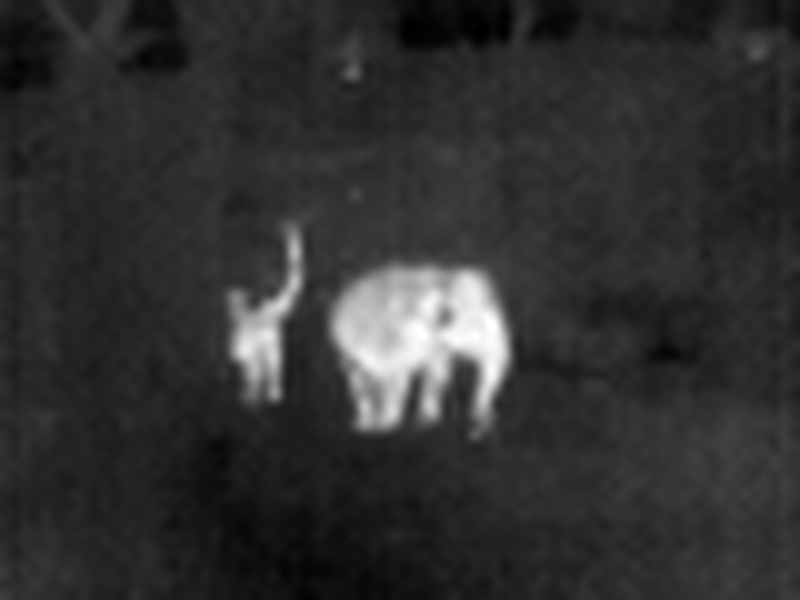elephant: (327, 264, 491, 452)
